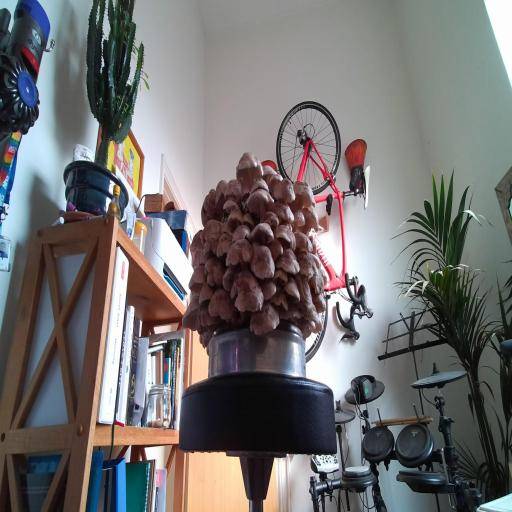Shiitake Mushroom: (218, 260, 276, 332), (236, 178, 285, 225), (229, 145, 270, 198), (240, 298, 287, 339), (265, 218, 306, 257), (192, 212, 230, 250), (223, 236, 255, 274), (183, 259, 213, 299), (264, 283, 297, 319), (209, 224, 239, 263), (292, 269, 315, 319), (279, 273, 308, 309), (250, 244, 275, 280), (208, 287, 235, 320), (290, 177, 316, 211), (180, 292, 201, 333), (247, 219, 277, 246), (256, 206, 285, 233), (267, 264, 295, 291), (307, 286, 331, 317), (275, 246, 301, 274), (257, 270, 279, 303), (271, 198, 295, 228), (263, 167, 287, 196), (189, 307, 210, 340), (265, 234, 288, 264), (195, 280, 217, 311), (306, 268, 327, 300), (224, 204, 246, 233), (258, 157, 280, 186), (219, 261, 238, 294), (199, 252, 226, 275), (198, 297, 218, 328), (274, 176, 296, 204), (218, 193, 243, 216), (194, 205, 216, 231), (238, 208, 259, 234), (202, 188, 218, 221), (297, 252, 318, 277), (301, 206, 319, 235), (213, 176, 228, 209), (291, 231, 314, 252), (303, 307, 325, 327), (207, 264, 225, 288), (187, 244, 203, 271), (224, 178, 243, 200), (248, 176, 271, 194), (209, 229, 223, 255), (231, 224, 252, 241), (279, 303, 301, 319), (189, 230, 204, 253), (308, 249, 324, 270), (304, 316, 320, 335), (317, 264, 330, 287), (309, 320, 327, 335), (293, 210, 305, 228), (308, 234, 318, 255), (199, 252, 211, 269), (203, 241, 214, 256), (220, 222, 233, 233), (196, 252, 202, 266)
